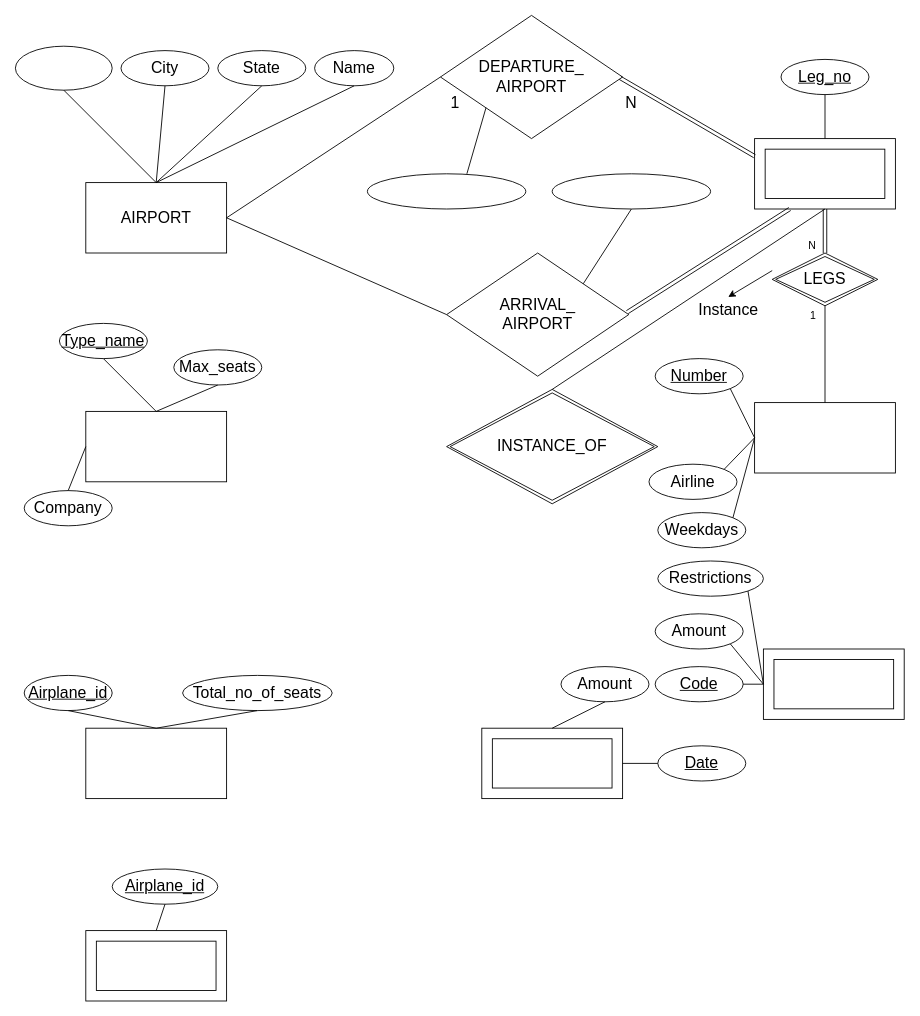
Image size: 920x1016. Some labels were removed from this diagram. The shapes that lost their labels are listed below. From the top down, each one's centre as x and y in pixels, then its label:
At point (63, 67): "AIRPORT CODE".
At point (446, 191): "Scheduled_dep_time".
At point (631, 191): "Scheduled_arr_time".
At point (824, 173): "FLIGHT_LEG".
At point (156, 446): "AIRLINE_TYPE".
At point (824, 437): "FLIGHT".
At point (833, 683): "FARE".
At point (156, 763): "AIRPLANE".
At point (552, 763): "LEG_INSTANCE".
At point (156, 965): "SEAT".
